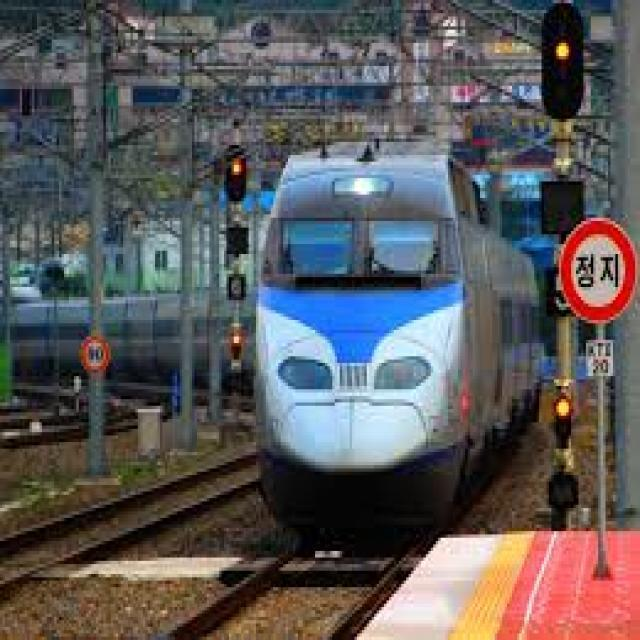trains: (253, 140, 543, 548)
